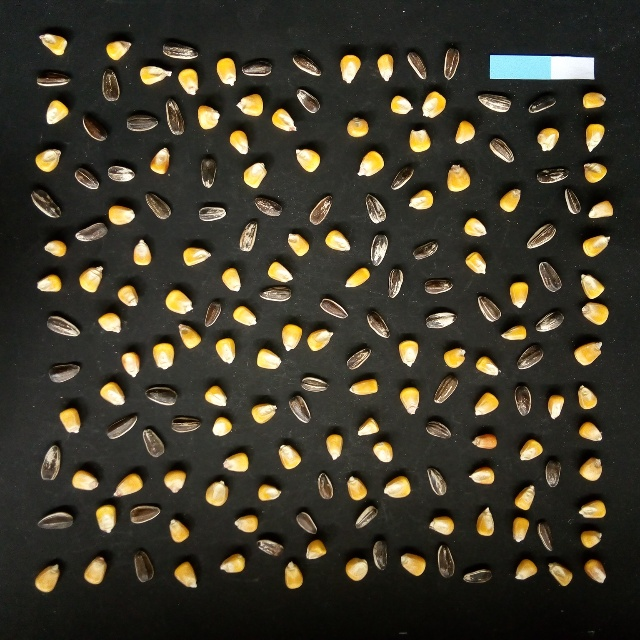escala: (489, 55, 593, 78)
girasol: (24, 185, 64, 221), (126, 543, 158, 587), (470, 288, 505, 325), (33, 507, 78, 535), (484, 132, 519, 168), (287, 48, 326, 80), (40, 311, 83, 340), (36, 440, 65, 482), (533, 257, 565, 295), (420, 462, 452, 500), (525, 220, 559, 255), (472, 88, 516, 115), (428, 372, 461, 408), (307, 190, 337, 229), (140, 188, 174, 222), (158, 36, 203, 61), (420, 305, 460, 333), (509, 379, 535, 422), (433, 539, 458, 583), (531, 305, 567, 335), (77, 112, 110, 144), (290, 505, 324, 536), (348, 501, 382, 532), (44, 359, 83, 386), (125, 499, 165, 525), (103, 412, 140, 440), (162, 96, 187, 137), (362, 305, 392, 339), (71, 217, 108, 244), (343, 341, 374, 373), (420, 273, 458, 299), (361, 189, 389, 224), (402, 48, 430, 83), (142, 383, 181, 408), (524, 89, 560, 116), (533, 517, 559, 554), (386, 161, 416, 193), (285, 391, 315, 423), (532, 162, 572, 186), (138, 427, 167, 460), (98, 66, 123, 104), (458, 563, 496, 588), (193, 154, 220, 189), (438, 46, 464, 82), (516, 343, 547, 373), (236, 217, 260, 255), (103, 160, 138, 186), (316, 295, 351, 321), (294, 86, 325, 115), (122, 110, 161, 133), (193, 199, 230, 223), (420, 416, 454, 442), (250, 194, 285, 219), (239, 55, 275, 79), (408, 236, 441, 262), (368, 230, 390, 268), (371, 533, 391, 574), (167, 413, 204, 435), (33, 69, 75, 88), (543, 456, 565, 492), (72, 166, 101, 192), (315, 468, 337, 502), (256, 285, 295, 304), (297, 374, 335, 393), (386, 266, 407, 300), (200, 299, 224, 328), (561, 185, 582, 217), (255, 536, 285, 557)
maiz: (570, 335, 608, 369), (109, 469, 147, 501), (378, 469, 416, 500), (31, 560, 64, 595), (78, 553, 110, 589), (579, 228, 615, 260), (54, 404, 87, 437), (91, 501, 120, 538), (354, 148, 387, 180), (266, 104, 300, 135), (95, 377, 129, 408), (201, 474, 232, 508), (393, 335, 422, 371), (170, 559, 202, 591), (274, 440, 305, 473), (31, 145, 65, 175), (444, 161, 474, 195), (35, 31, 71, 59), (577, 299, 613, 327), (472, 501, 500, 537), (147, 340, 178, 372), (217, 547, 248, 579), (577, 268, 609, 299), (470, 388, 501, 420), (77, 262, 107, 295), (291, 145, 325, 174), (580, 121, 609, 155), (337, 51, 365, 86), (219, 447, 255, 474), (281, 229, 312, 260), (418, 89, 449, 120), (459, 211, 490, 242), (161, 287, 195, 315), (343, 374, 381, 399), (212, 53, 239, 88), (68, 467, 104, 493), (575, 454, 606, 484), (509, 552, 539, 583), (210, 334, 239, 366), (397, 550, 429, 579), (250, 478, 287, 503), (531, 127, 564, 155), (573, 381, 601, 414), (513, 434, 546, 462), (278, 321, 305, 355), (396, 381, 422, 416), (280, 559, 306, 594), (319, 431, 349, 461), (194, 101, 223, 132), (240, 160, 269, 191), (160, 467, 191, 496), (342, 552, 371, 583), (449, 118, 478, 149), (545, 559, 576, 588), (575, 495, 608, 522), (148, 143, 174, 177), (138, 62, 173, 87), (174, 321, 203, 351), (440, 341, 469, 371), (511, 481, 540, 511), (471, 352, 502, 380), (581, 557, 612, 585), (321, 227, 353, 254), (579, 158, 611, 185), (248, 399, 281, 425), (543, 390, 568, 424), (43, 98, 72, 127), (166, 515, 194, 545), (498, 186, 526, 216), (199, 382, 230, 409), (264, 259, 296, 285), (304, 328, 336, 354), (106, 203, 139, 228), (37, 235, 70, 260), (343, 113, 372, 141), (341, 470, 369, 499), (406, 126, 434, 155), (460, 248, 489, 276), (205, 411, 235, 438), (367, 438, 397, 465), (175, 66, 201, 97), (234, 91, 265, 117), (350, 410, 381, 436), (130, 235, 155, 267), (342, 265, 374, 290), (225, 129, 253, 157), (254, 345, 283, 372), (302, 537, 331, 564), (374, 51, 397, 85), (103, 36, 133, 62), (585, 196, 616, 221), (464, 465, 499, 487), (180, 244, 212, 268), (577, 88, 609, 112), (218, 265, 245, 293), (118, 350, 144, 379), (506, 515, 531, 545), (405, 188, 436, 212), (425, 513, 457, 536), (114, 283, 142, 309), (32, 273, 65, 295), (468, 431, 501, 453), (508, 279, 530, 311), (388, 91, 415, 117), (95, 310, 123, 335), (231, 303, 259, 328), (575, 420, 605, 443), (576, 527, 604, 551), (498, 322, 529, 343), (232, 513, 260, 536)
